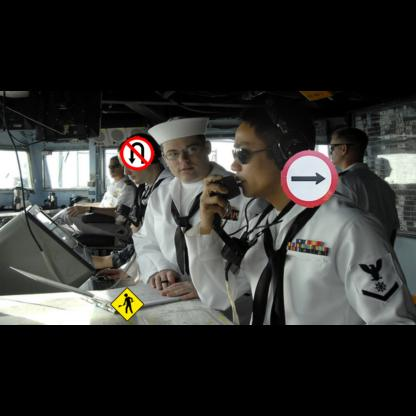A-24: (110, 287, 144, 322)
R-24a: (281, 150, 338, 207)
R-5a: (120, 136, 154, 170)
